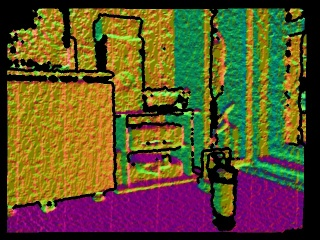station: (197, 147, 233, 192)
